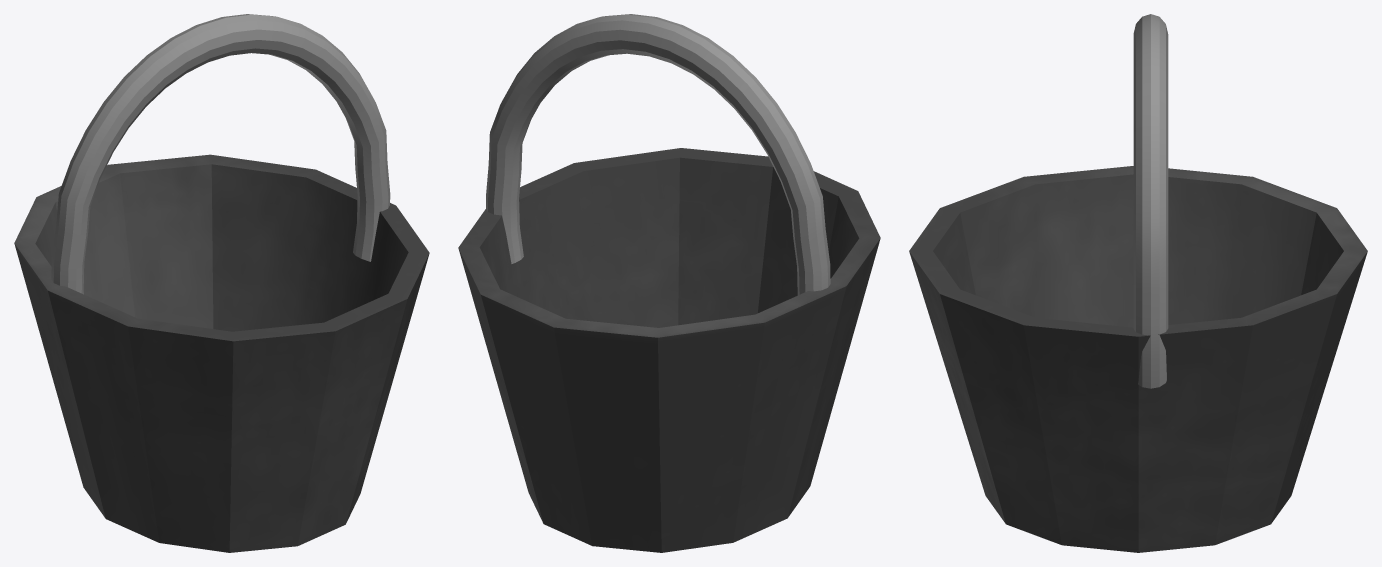
File: bucket.fbx
3 renders of one model, left to right at view 1: azimuth 30°, elevation 25°; view 2: azimuth 150°, elevation 25°; view 3: azimuth 270°, elevation 25°, orthographic.
Visible parts, largest first — view 1: polySurface398; view 2: polySurface398; view 3: polySurface398.
Part boxes in pixels (<box>): polySurface398: <box>14,14,429,552</box>; polySurface398: <box>458,14,880,552</box>; polySurface398: <box>909,14,1367,552</box>.
Size of the model in its own units: 0.4957 by 0.6337 by 0.5608.
1 material, 1 textured.
